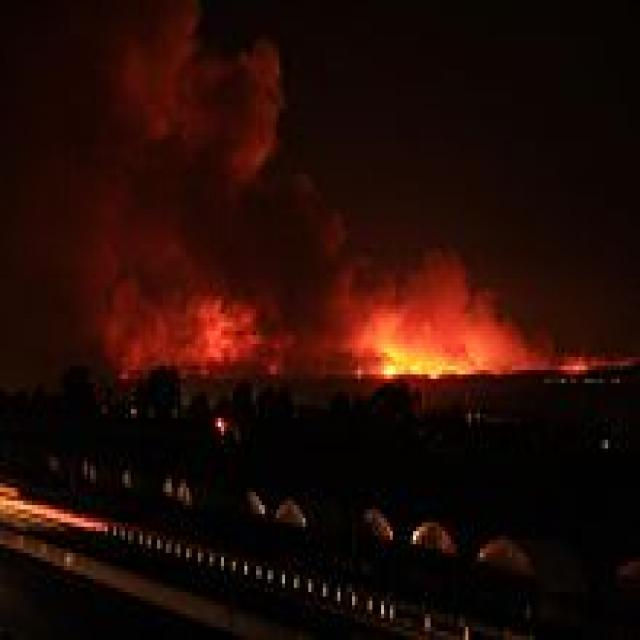Fire: (105, 253, 640, 379), (0, 483, 111, 536)
Smoke: (0, 0, 640, 396)
